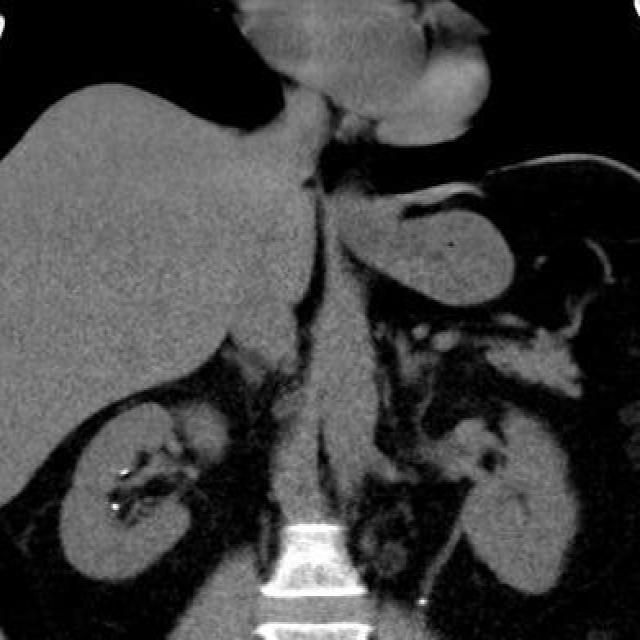Tas_Var: (108, 499, 121, 515), (116, 467, 130, 477)
